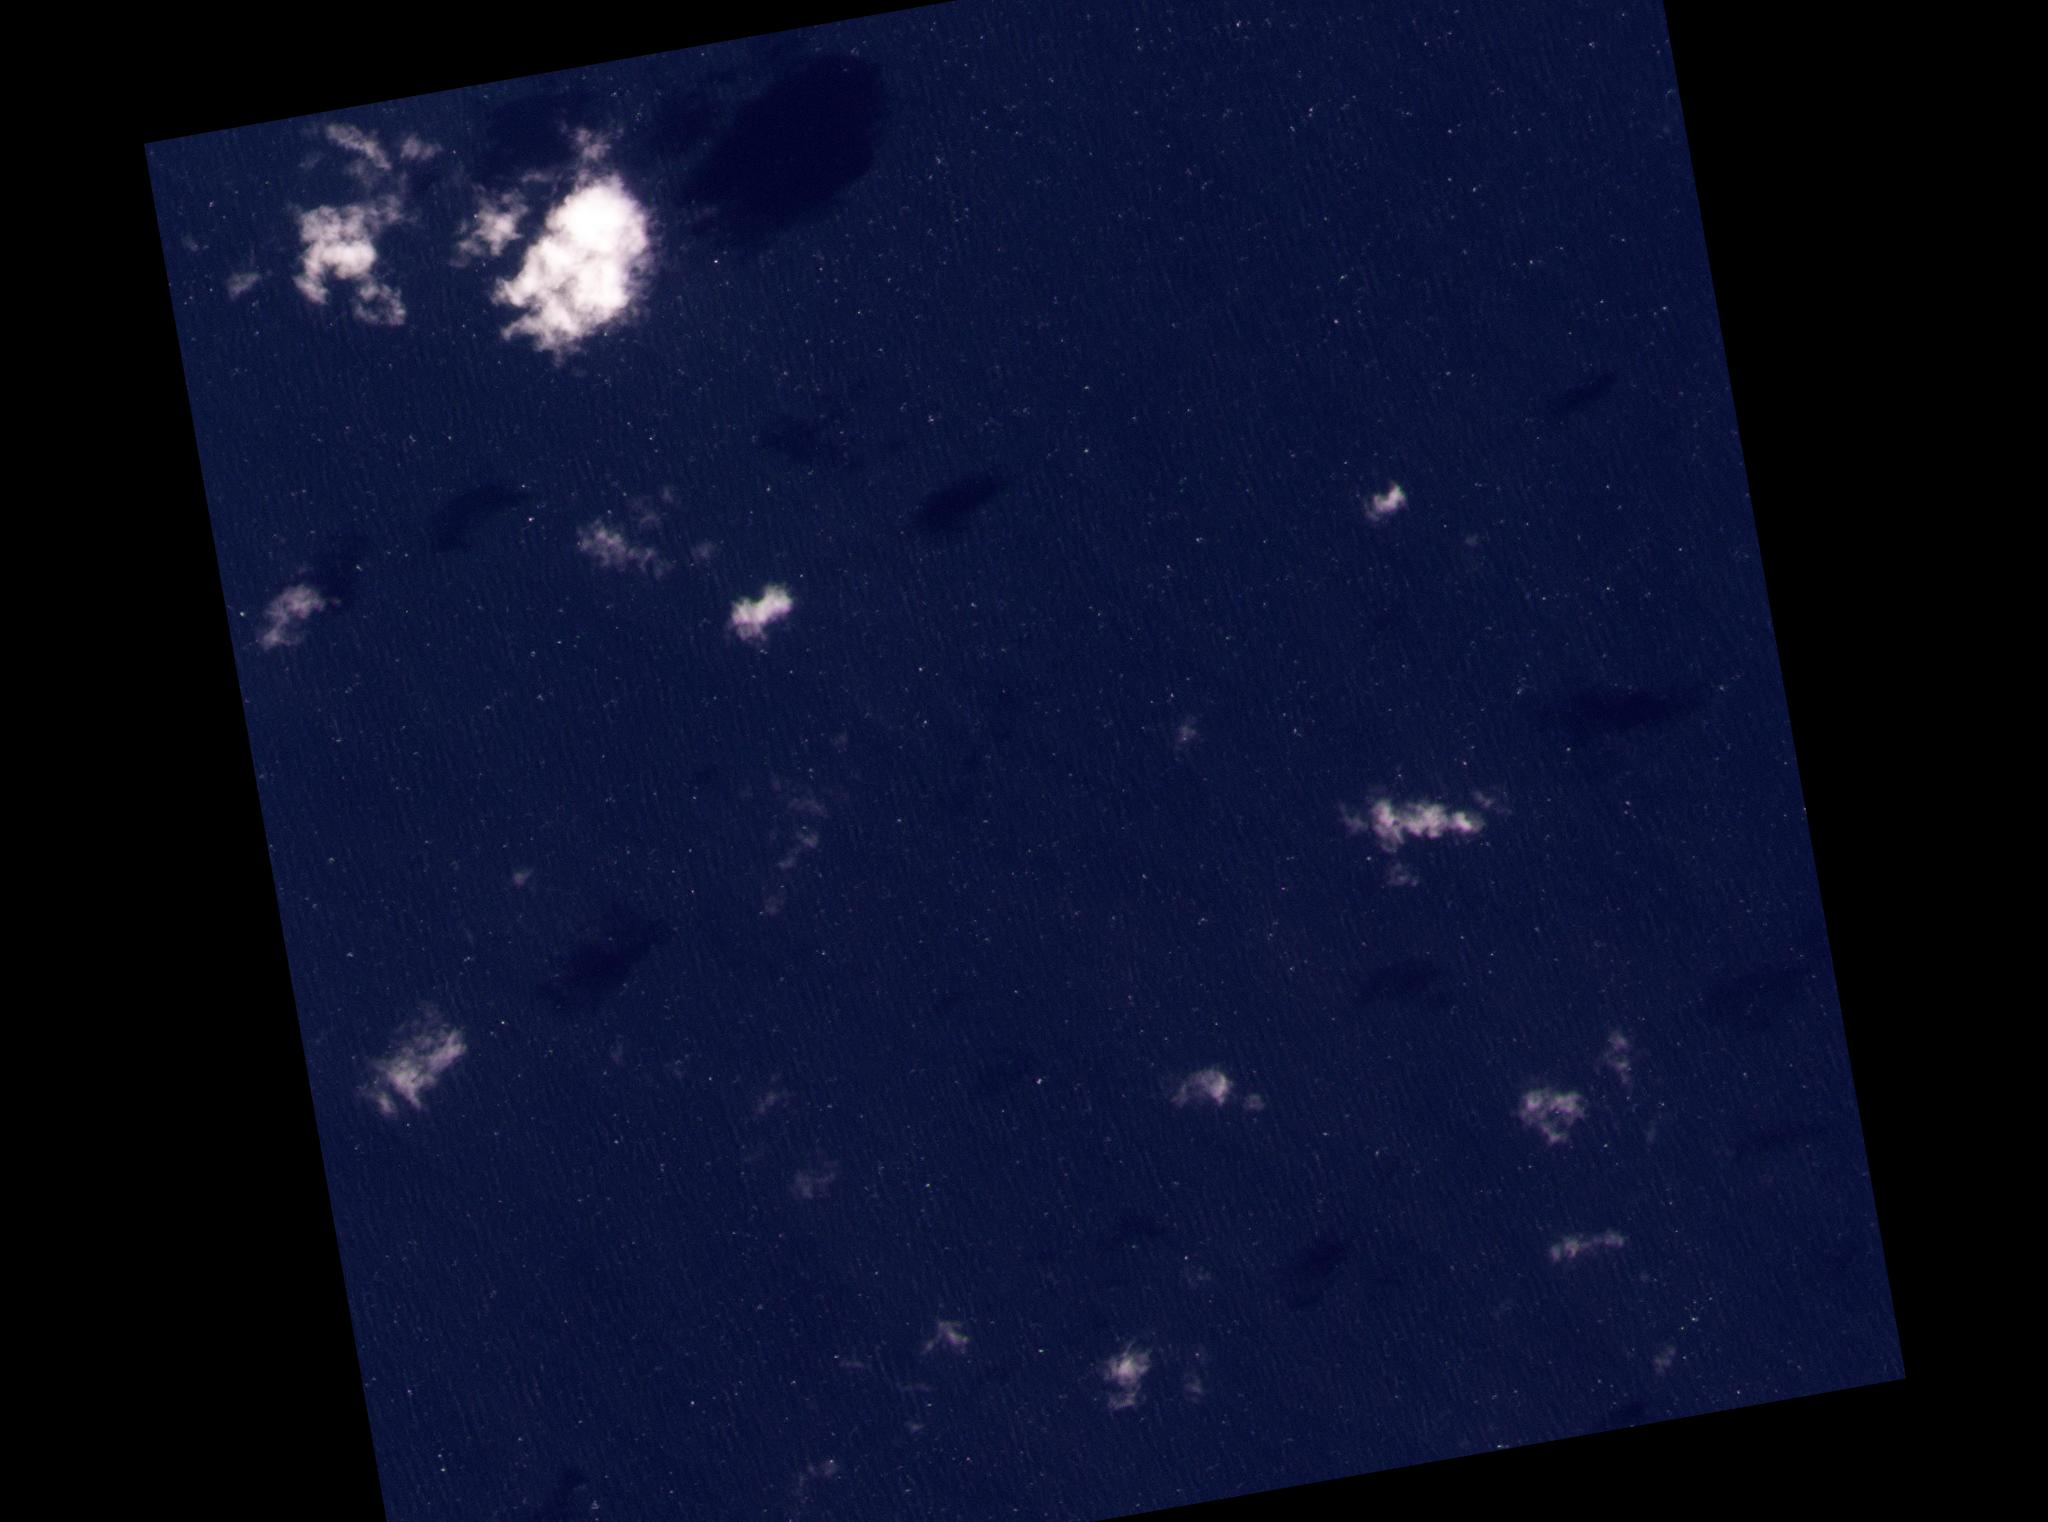ship: (336, 991, 486, 1137), (1325, 759, 1520, 867), (54, 24, 240, 117), (425, 0, 544, 125), (24, 558, 152, 670), (564, 500, 681, 604), (1084, 1321, 1172, 1421), (1508, 1076, 1602, 1156), (1586, 1018, 1655, 1114), (721, 582, 803, 652), (595, 475, 668, 539), (1541, 1204, 1634, 1253), (774, 1458, 847, 1520), (735, 1066, 804, 1127), (785, 1156, 847, 1213), (1167, 1049, 1241, 1095), (11, 109, 74, 160), (913, 1314, 974, 1361), (1357, 481, 1412, 532), (1365, 854, 1423, 900), (1162, 715, 1205, 775), (392, 123, 446, 169), (684, 540, 724, 571), (561, 27, 569, 158), (1637, 1111, 1655, 1161), (184, 70, 201, 109), (1636, 1338, 1652, 1380), (812, 719, 828, 761), (1231, 1089, 1237, 1119), (521, 870, 536, 883)
